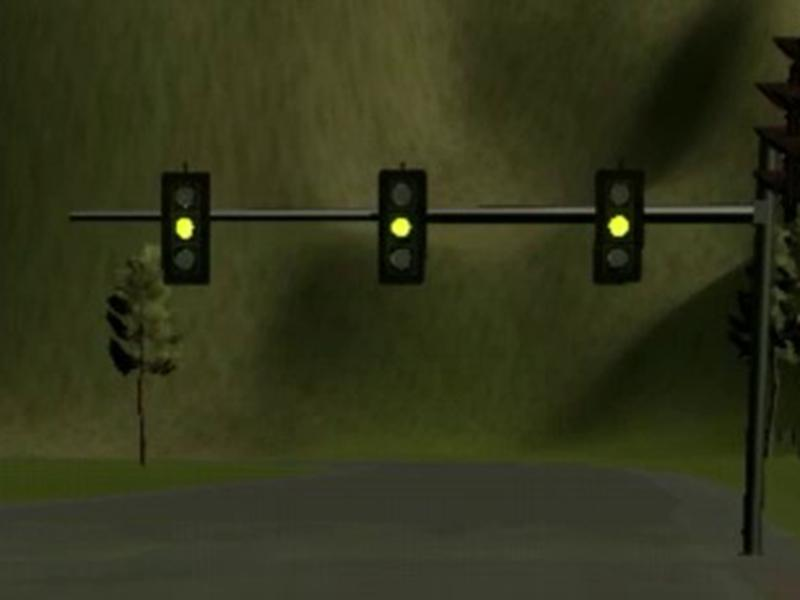Yellow: (596, 169, 645, 284), (161, 171, 210, 285), (378, 169, 425, 285)
